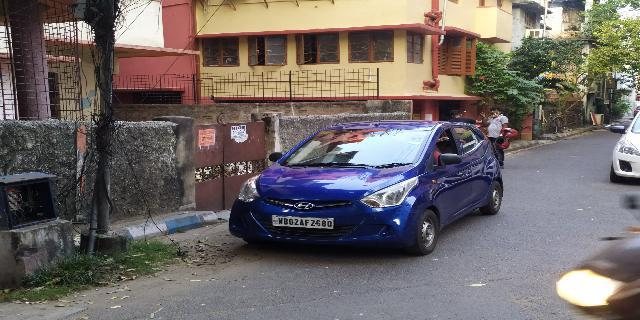Car: (224, 116, 510, 261), (602, 92, 640, 185)
